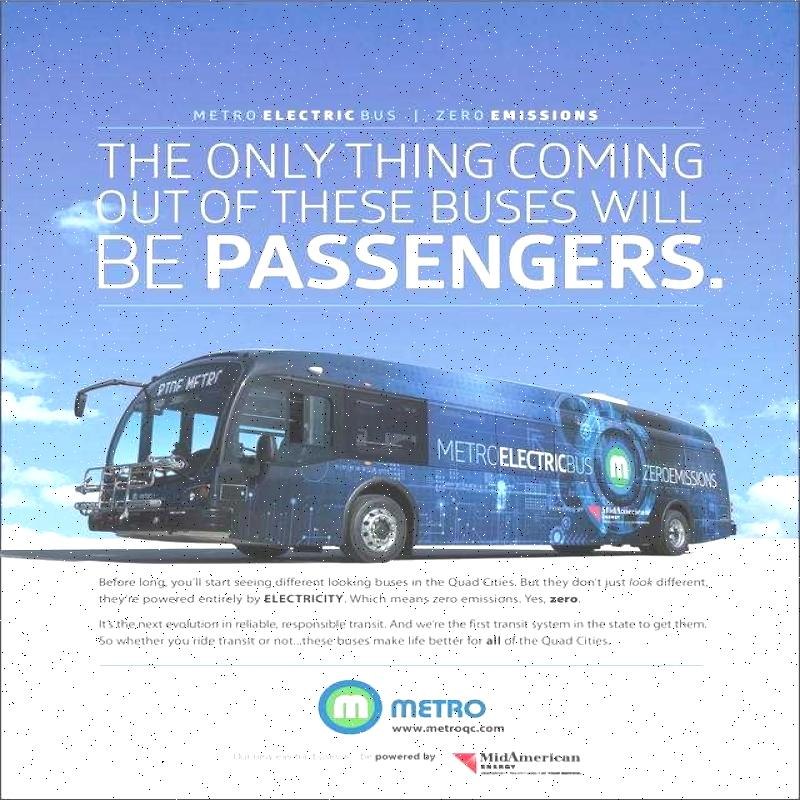bus: (55, 330, 761, 580)
